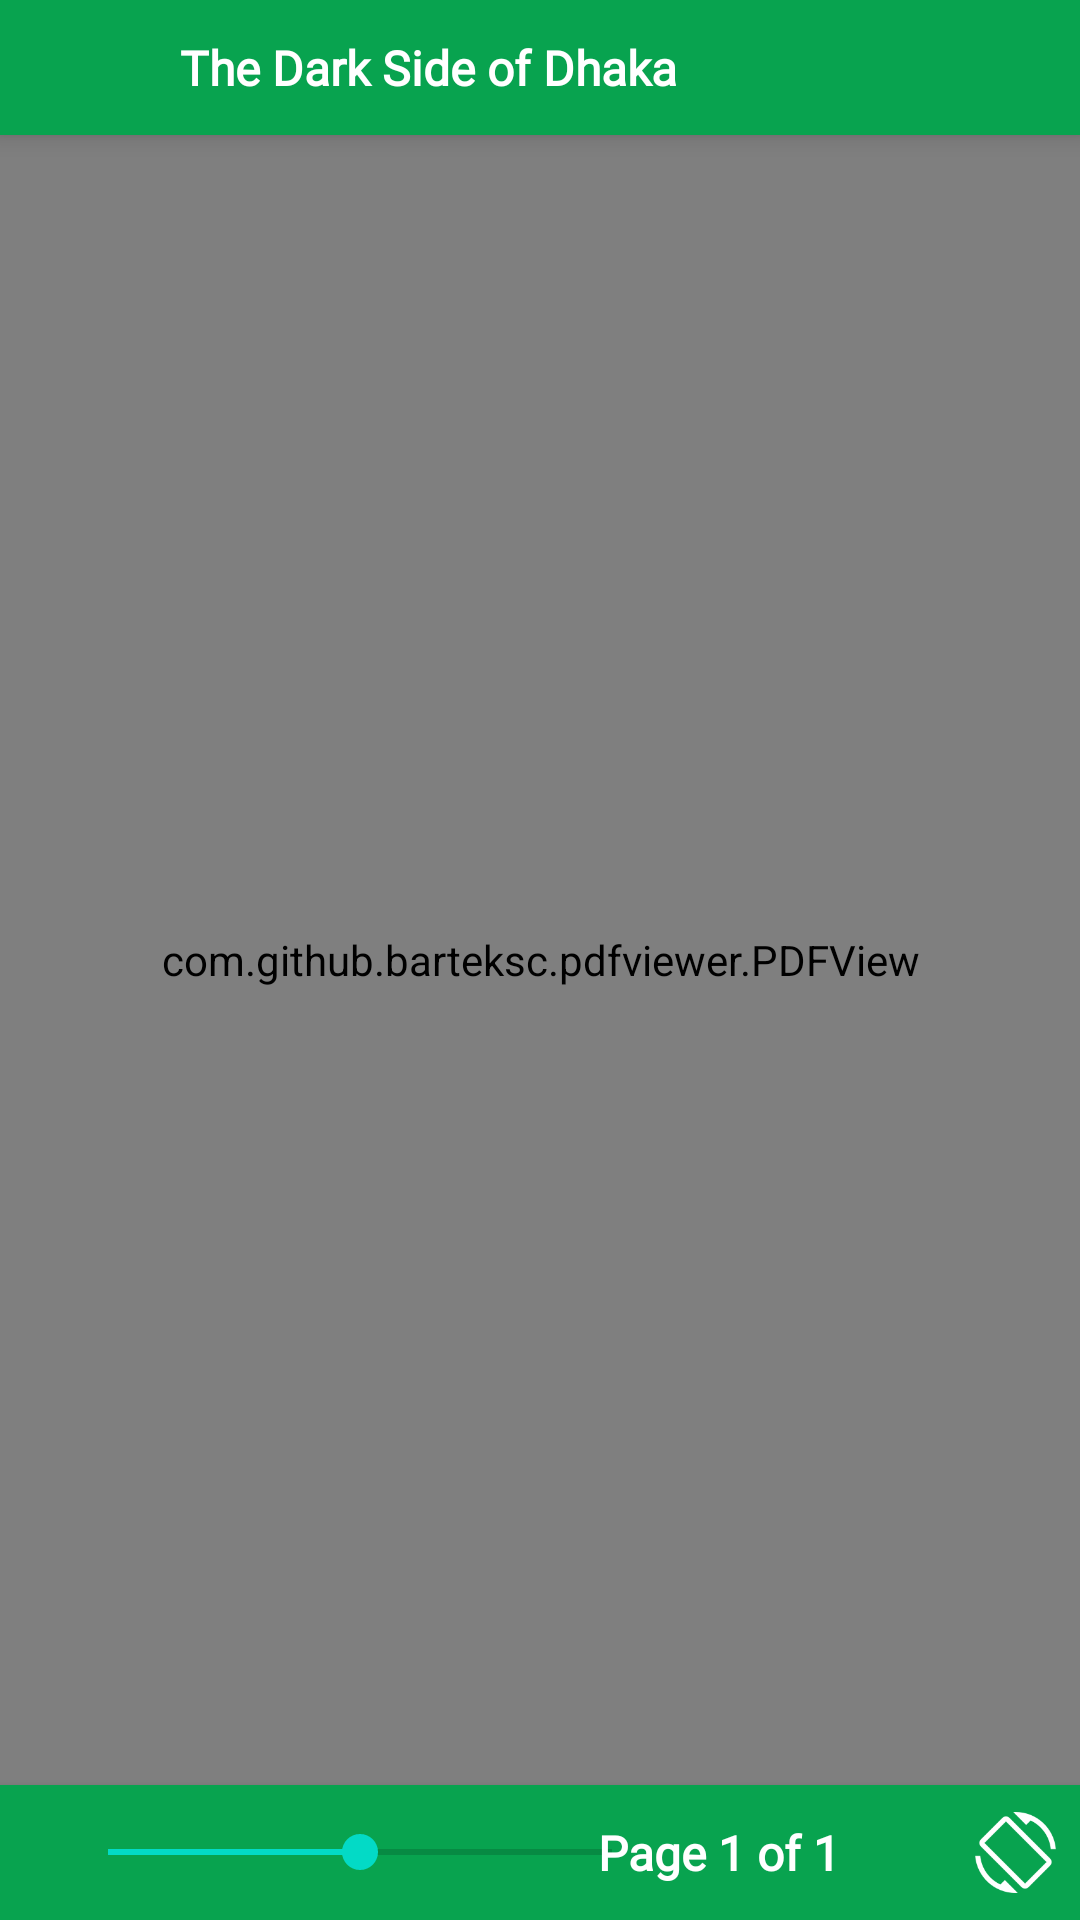

Locate icon controls on the screen. Image size 1080×1920, boxes as (x1, y1, x2, y2).
rotation: (975, 1812, 1056, 1893)
